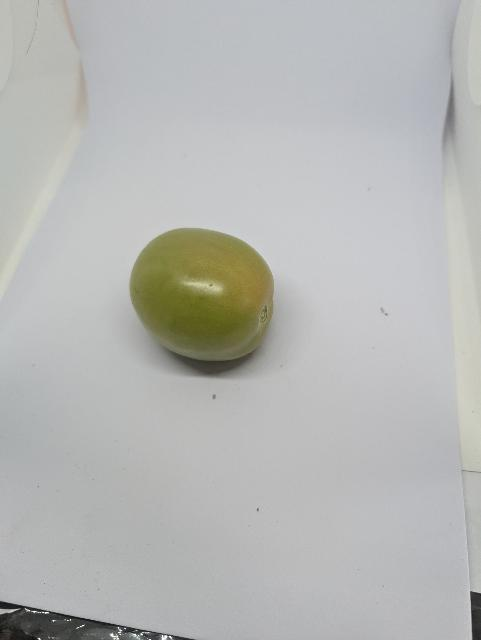green: (125, 216, 285, 377)
